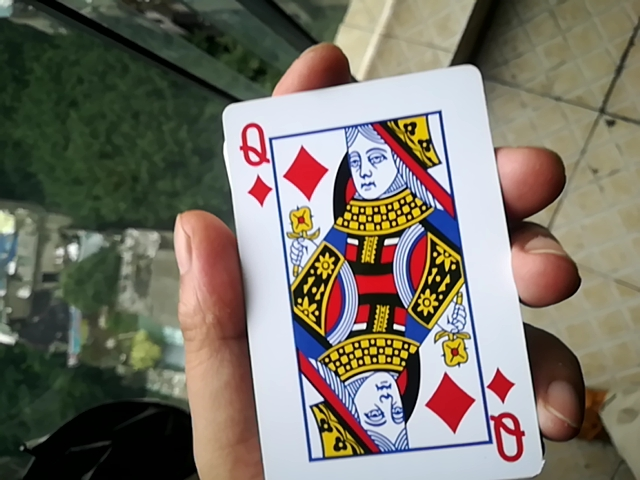fk q: (205, 61, 535, 480)
